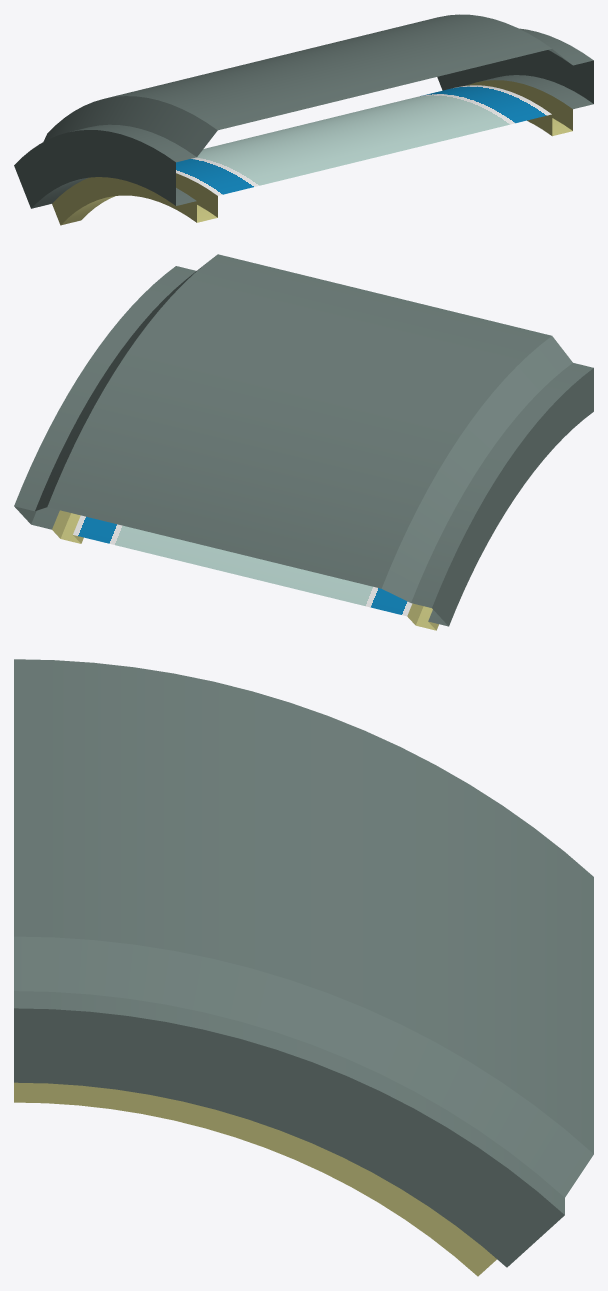
3 views of the same model, one above another, from view 1: azimuth 30°, elevation 25°; view 2: azimuth 150°, elevation 25°; view 3: azimuth 270°, elevation 25° (orthographic). The views are drawn at different scales.
Parts seen in each view (by area): view 1: T0_Curve_R10_D45_Z; view 2: T0_Curve_R10_D45_Z; view 3: T0_Curve_R10_D45_Z.
Boxes of the visible parts, bbox=[...] form: T0_Curve_R10_D45_Z: bbox=[14, 14, 593, 225]; T0_Curve_R10_D45_Z: bbox=[14, 254, 593, 630]; T0_Curve_R10_D45_Z: bbox=[14, 659, 593, 1276].
Bounding box in the file's own units: 10 × 4.34 × 7.07.
